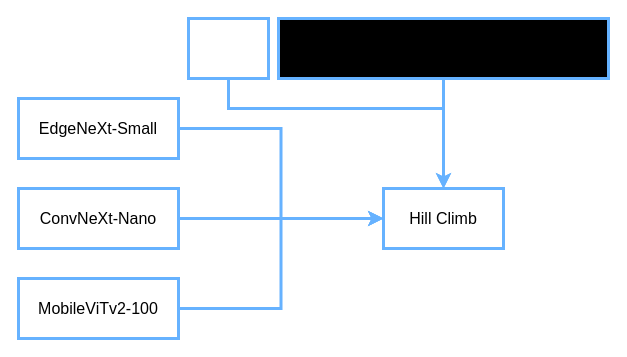
The diagram is 627 pixels wide and 357 high, and some of its shapes have lost their labels. Each missing label, with the centre of its shape:
U-Net: the point at 228,48
ViT-Medium (Vision Transformer, Medium): the point at 443,48
